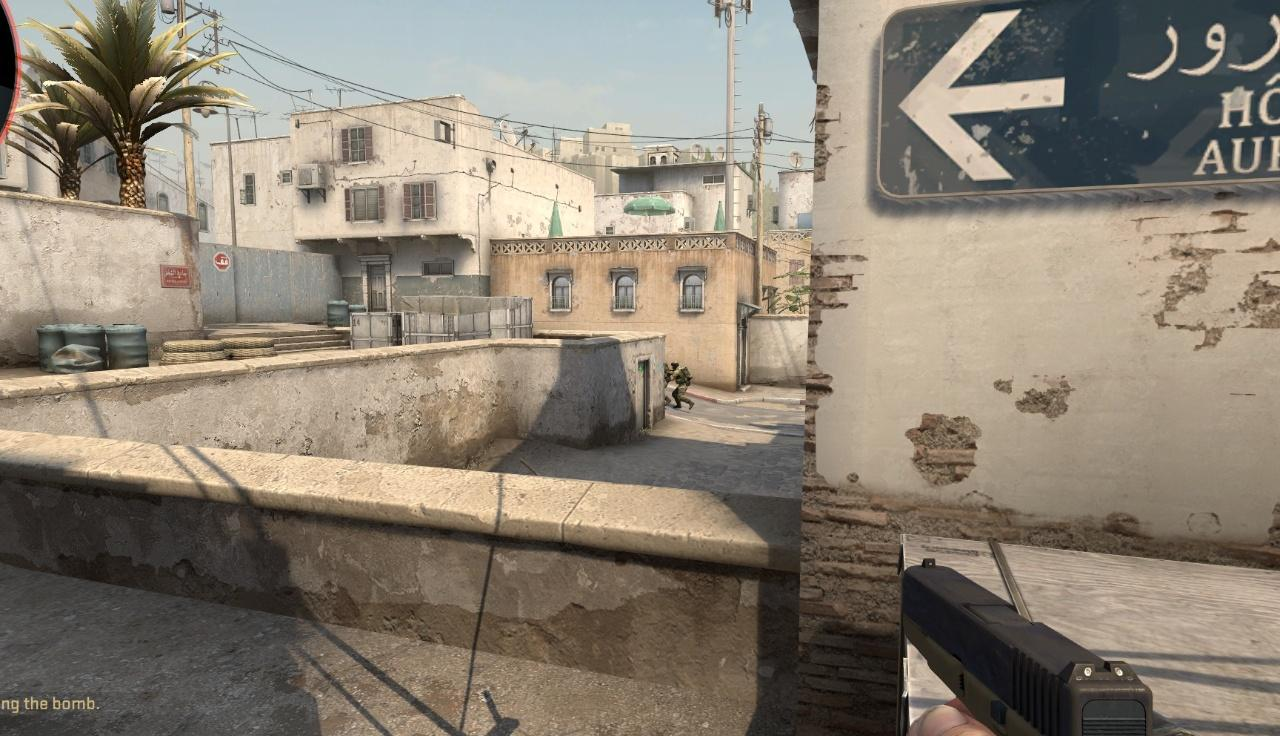ct: (671, 362, 694, 409)
cthead: (671, 362, 679, 371)
pistol: (898, 560, 1169, 736)
